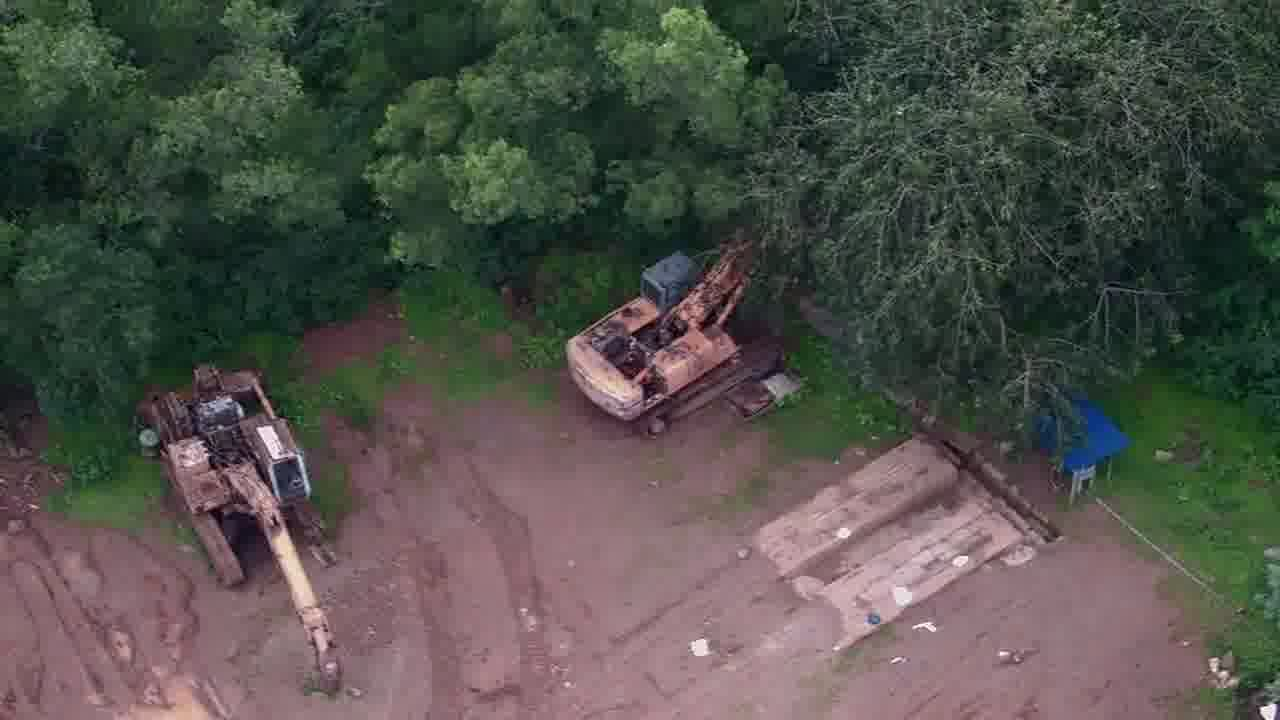HMV: (130, 363, 347, 691), (560, 230, 777, 426)
